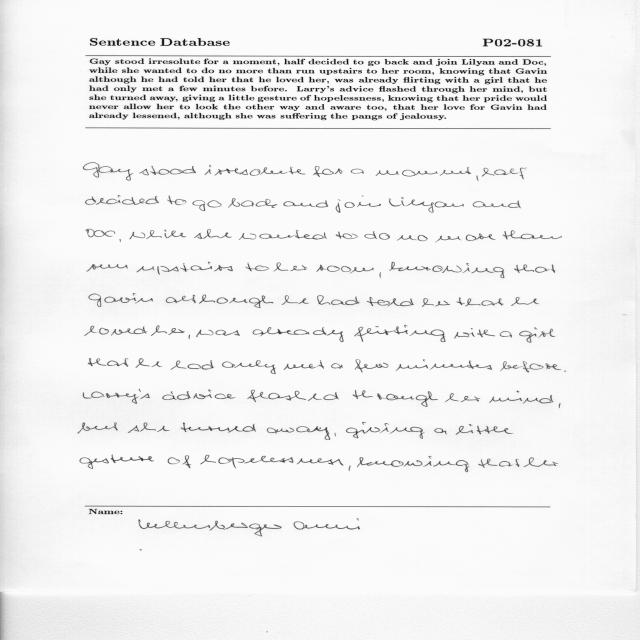word: (200, 455, 343, 468), (389, 262, 505, 278), (357, 456, 469, 472), (354, 325, 446, 342), (353, 390, 438, 407), (83, 389, 177, 404), (166, 295, 273, 308), (253, 327, 344, 342), (346, 422, 425, 439), (136, 262, 233, 275), (389, 197, 464, 213), (205, 165, 306, 176), (247, 390, 339, 402), (396, 360, 492, 371), (80, 455, 154, 469), (84, 163, 134, 181), (89, 293, 153, 307), (267, 426, 330, 440), (239, 230, 327, 240), (376, 167, 472, 176), (489, 391, 554, 404), (336, 196, 381, 213), (180, 423, 256, 433), (222, 360, 276, 374), (85, 195, 159, 205), (500, 362, 561, 373), (177, 389, 235, 400), (456, 424, 513, 435), (85, 326, 147, 336), (519, 327, 555, 343), (129, 230, 186, 240), (435, 234, 496, 243), (503, 231, 562, 240), (316, 265, 374, 274), (139, 166, 196, 175), (228, 198, 277, 208), (482, 168, 526, 179), (128, 422, 169, 433), (355, 360, 389, 373), (171, 360, 215, 370), (78, 423, 118, 434), (456, 298, 504, 307), (317, 295, 360, 305), (367, 297, 414, 306), (454, 328, 495, 338), (284, 360, 325, 370), (473, 201, 521, 209), (194, 229, 232, 239), (478, 459, 520, 468), (151, 325, 185, 336), (515, 264, 556, 273), (88, 358, 129, 367), (313, 166, 343, 177), (87, 264, 128, 272), (193, 200, 222, 211), (284, 200, 329, 207), (445, 393, 480, 402), (168, 456, 192, 469), (196, 330, 240, 337), (524, 458, 558, 467), (274, 263, 307, 272), (282, 295, 309, 305), (86, 229, 115, 238), (136, 358, 162, 368), (422, 298, 450, 307), (511, 297, 539, 306), (364, 231, 390, 240), (397, 235, 428, 241), (246, 263, 269, 271), (167, 196, 186, 205), (336, 232, 358, 239), (434, 428, 447, 435), (500, 331, 512, 337), (331, 363, 343, 369), (351, 169, 364, 174), (477, 176, 479, 181), (559, 403, 561, 408), (349, 466, 351, 471), (188, 335, 190, 339), (119, 239, 121, 242), (380, 272, 381, 278), (335, 433, 336, 436), (564, 371, 566, 372)
